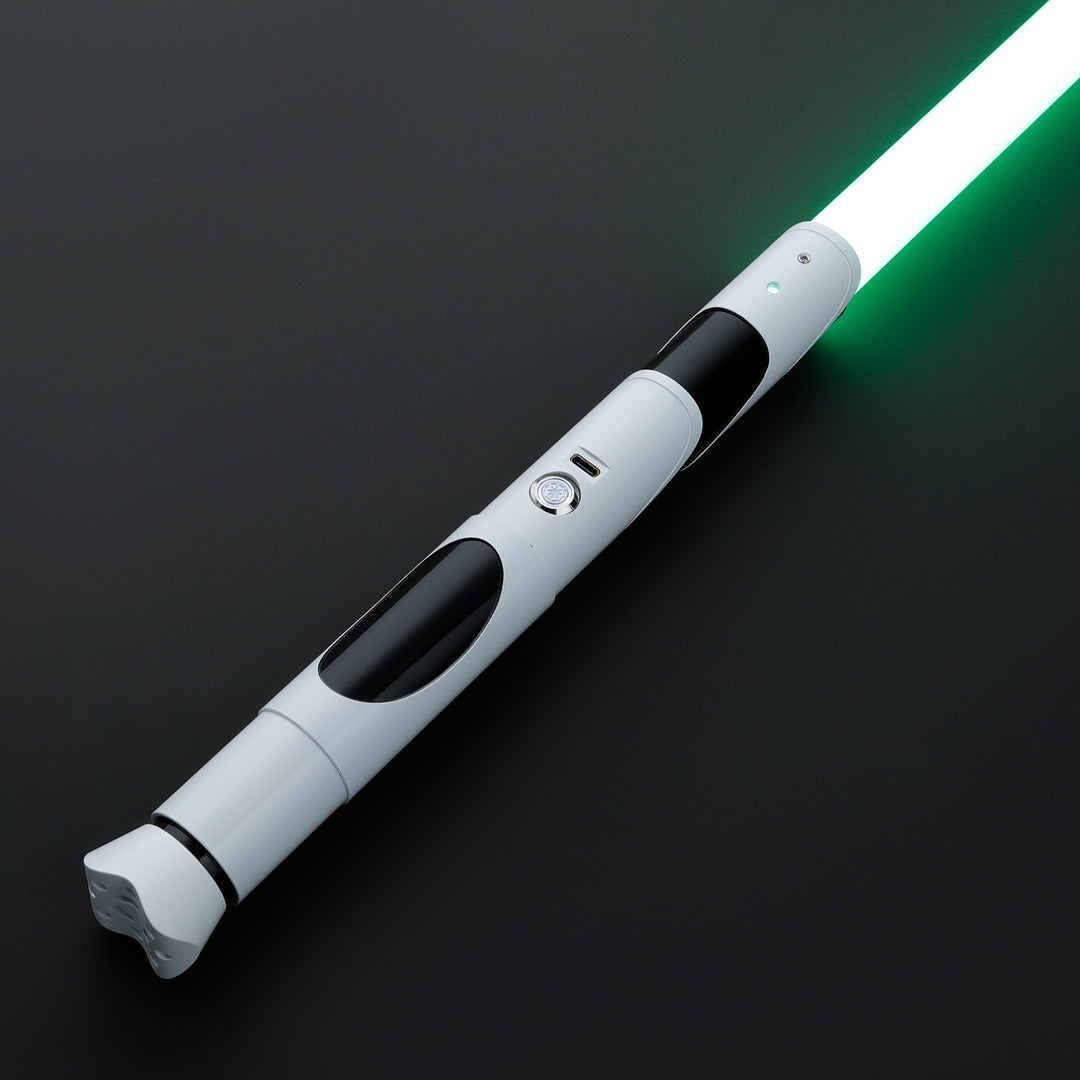lightsaber: (114, 15, 1080, 1016)
